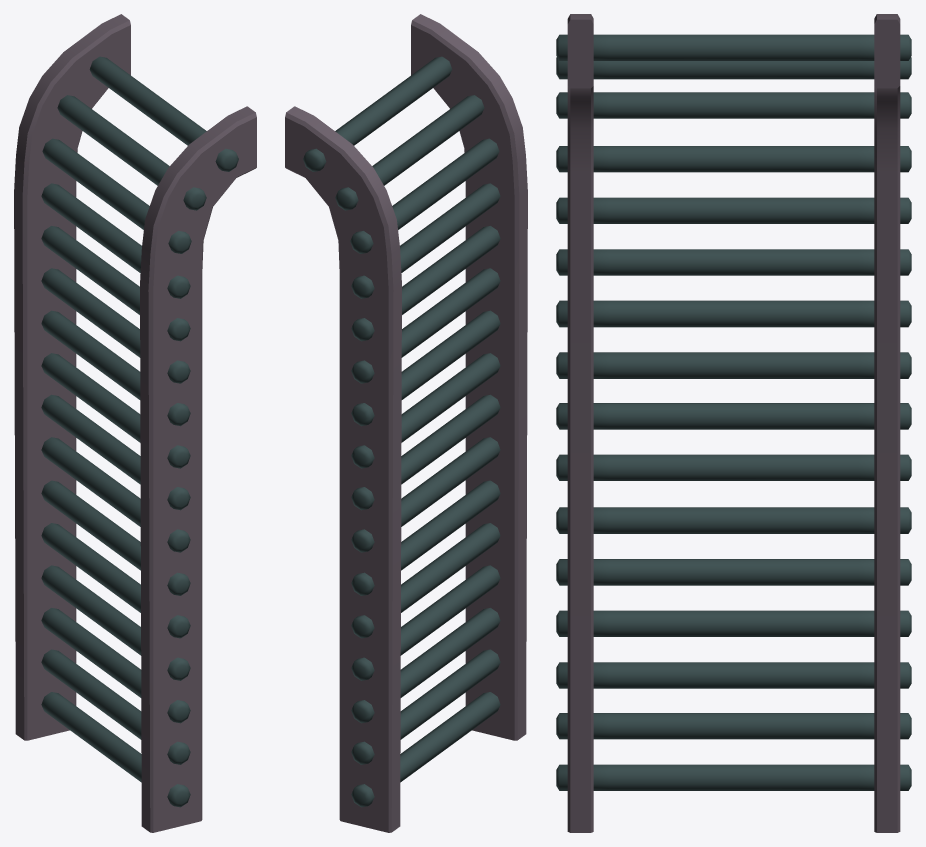
Rendered from GB_129_ladder_var01.glb.
The picture shows the model from 3 angles, left to right: view 1: azimuth 30°, elevation 25°; view 2: azimuth 150°, elevation 25°; view 3: azimuth 270°, elevation 25°; orthographic projection. The views are drawn at different scales.
Visible parts, largest first — view 1: Railing.005; view 2: Railing.005; view 3: Railing.005.
Boxes of the visible parts, box(x1,y1,x2,y2) form: Railing.005: box(14, 14, 256, 832); Railing.005: box(285, 14, 527, 832); Railing.005: box(556, 14, 911, 832).
Bounding box in the file's own units: 0.4723 × 2.92 × 1.11.
